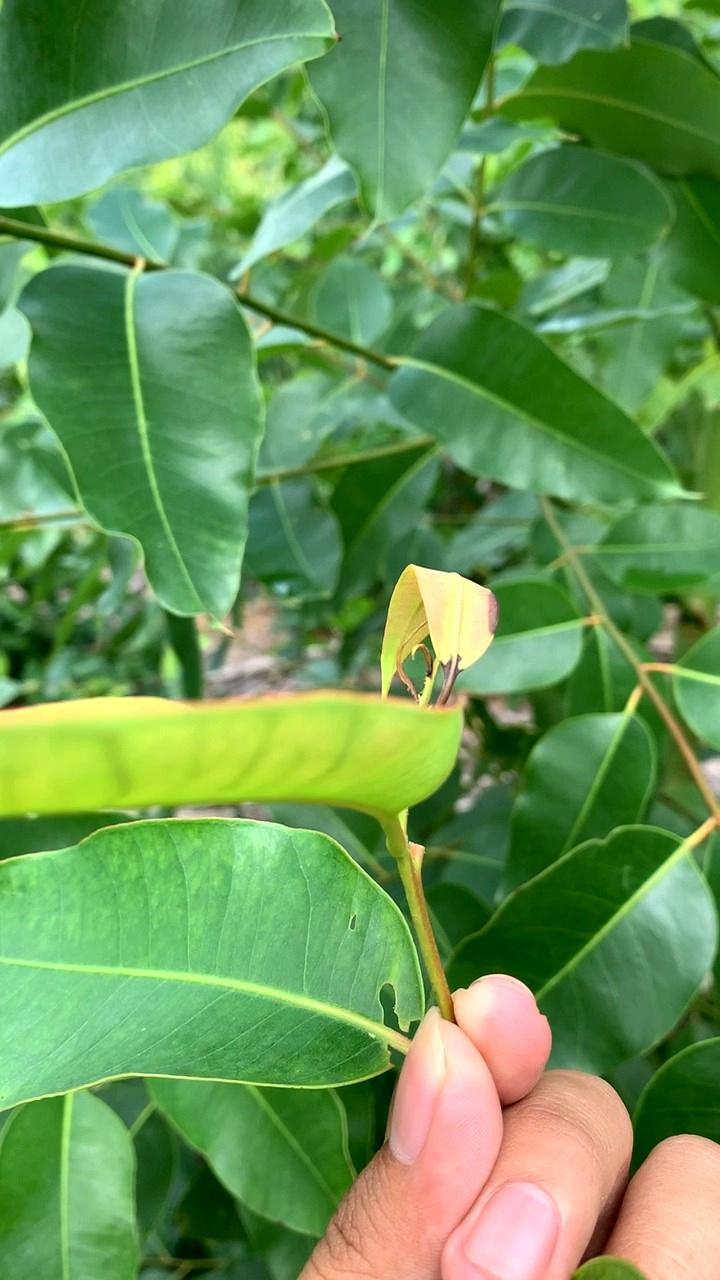Helopeltis-Withered Sprout: (355, 530, 507, 745)
